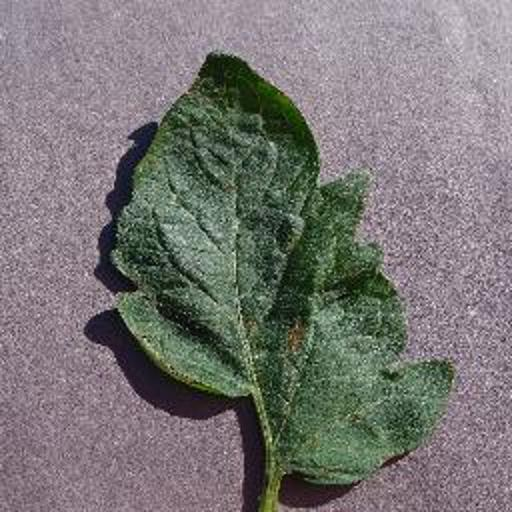Target Spot: (122, 289, 361, 512)
